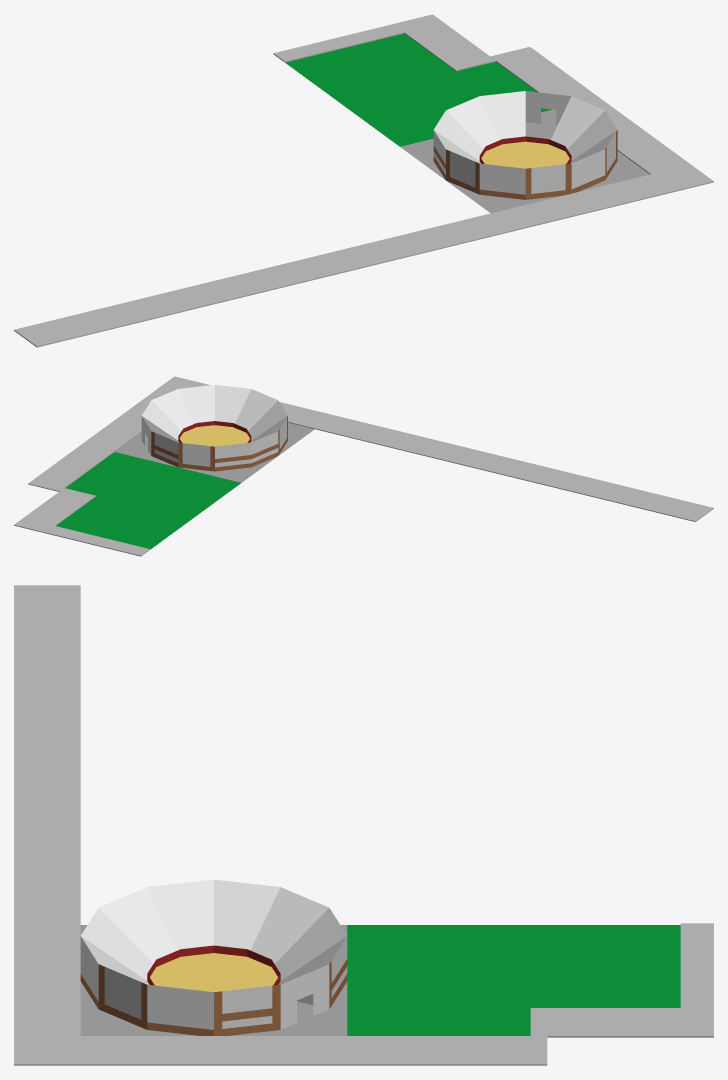
Rendered from bullfighting_arena.glb.
3 renders of one model, top to bottom at view 1: azimuth 30°, elevation 25°; view 2: azimuth 150°, elevation 25°; view 3: azimuth 270°, elevation 25°, orthographic. The views are drawn at different scales.
Parts seen in each view (by area): view 1: Circle; view 2: Circle; view 3: Circle.
Part boxes in pixels (bbox=[...]): Circle: bbox=[14, 14, 713, 347]; Circle: bbox=[14, 376, 713, 556]; Circle: bbox=[14, 585, 713, 1065].
Size of what is drawn, in the model's own units: 136 by 6 by 84.
